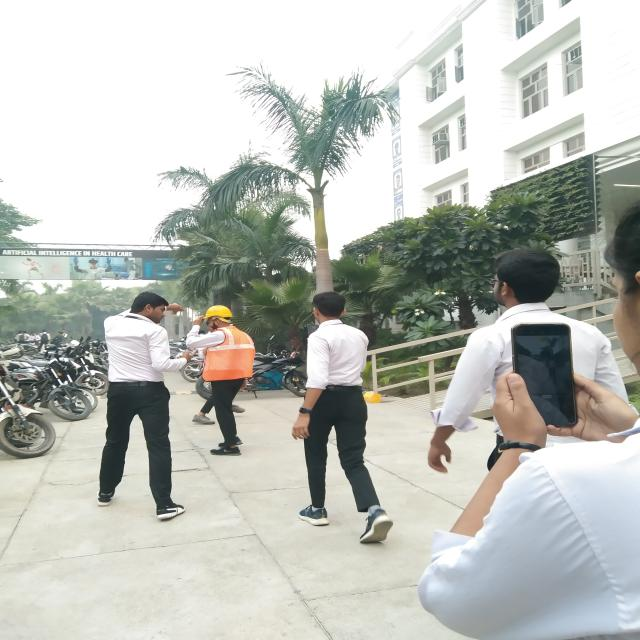safe: (186, 304, 257, 456)
unsafe: (427, 249, 629, 463), (292, 292, 392, 538), (100, 293, 186, 523)
